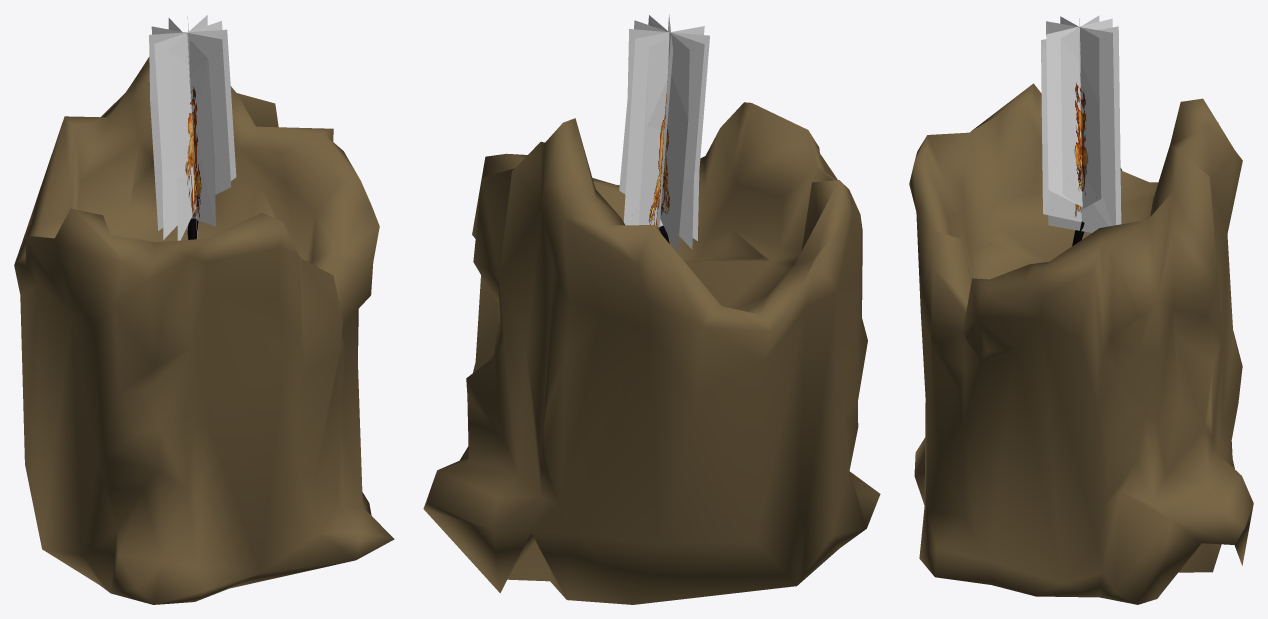
File: Candle_Wide_2.fbx
The picture shows the model from 3 angles, left to right: view 1: azimuth 30°, elevation 25°; view 2: azimuth 150°, elevation 25°; view 3: azimuth 270°, elevation 25°; orthographic projection. The views are drawn at different scales.
Parts seen in each view (by area): view 1: Candle Wide 2; view 2: Candle Wide 2; view 3: Candle Wide 2.
Part boxes in pixels (x1,y1,x2,y2): Candle Wide 2: (14, 15, 394, 604); Candle Wide 2: (423, 14, 880, 604); Candle Wide 2: (909, 15, 1253, 604).
Size of the model in its own units: 46.18 by 68.25 by 42.35.
